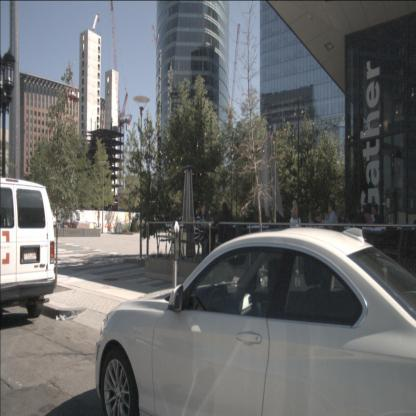barrier: (112, 222, 117, 229), (105, 223, 110, 229), (110, 222, 114, 229)
